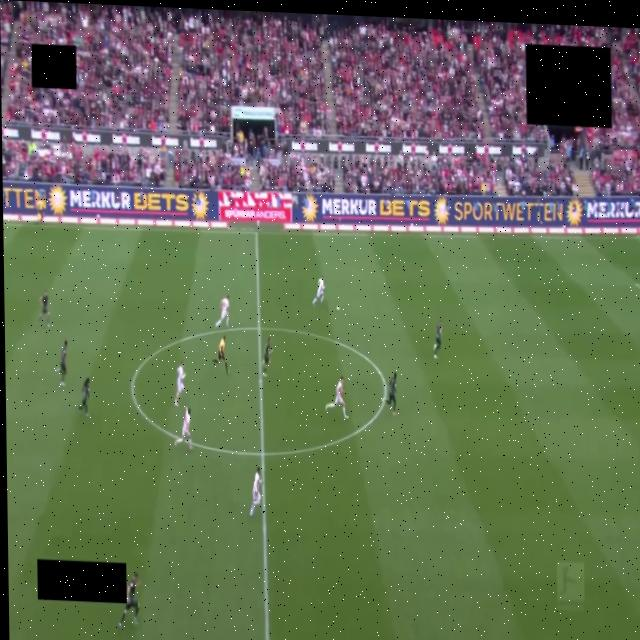ball: (336, 306, 339, 310)
player: (118, 573, 140, 629), (326, 376, 348, 418), (174, 408, 192, 451), (250, 467, 261, 516), (56, 340, 67, 386), (174, 361, 185, 407), (385, 372, 396, 415), (78, 378, 90, 417), (216, 296, 229, 328), (262, 338, 272, 377), (39, 290, 49, 327), (312, 278, 324, 305), (434, 320, 442, 359)
referee: (211, 337, 228, 374)
